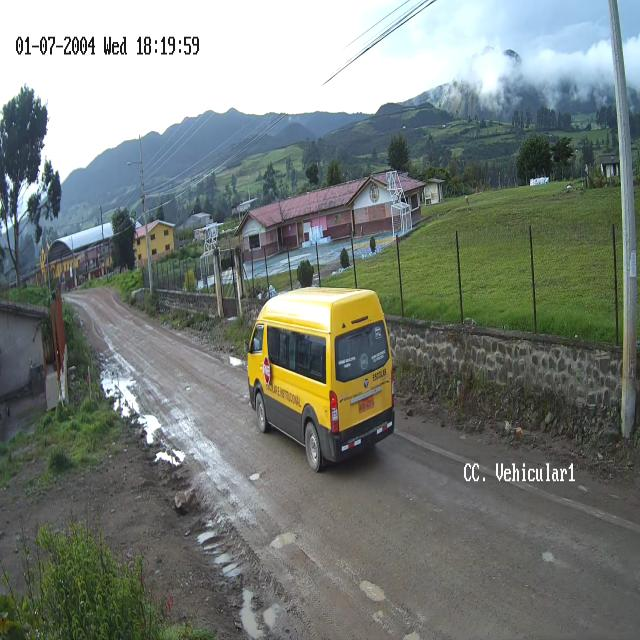BUS: (247, 287, 396, 472)
